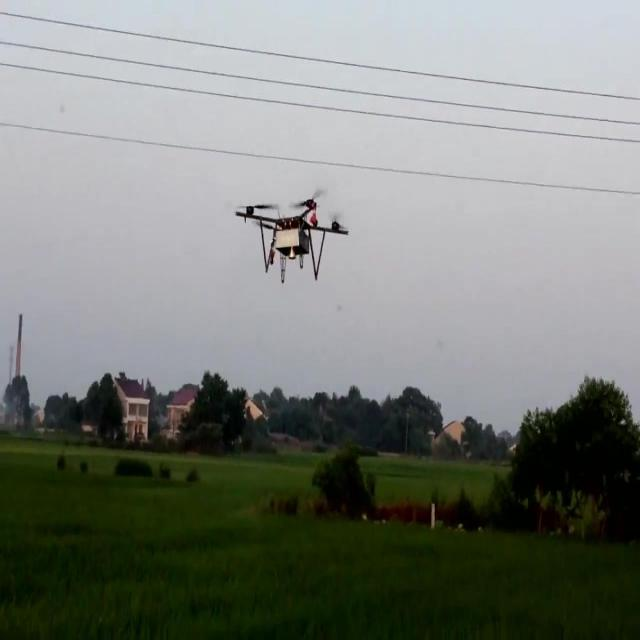UAV: (234, 186, 350, 284)
